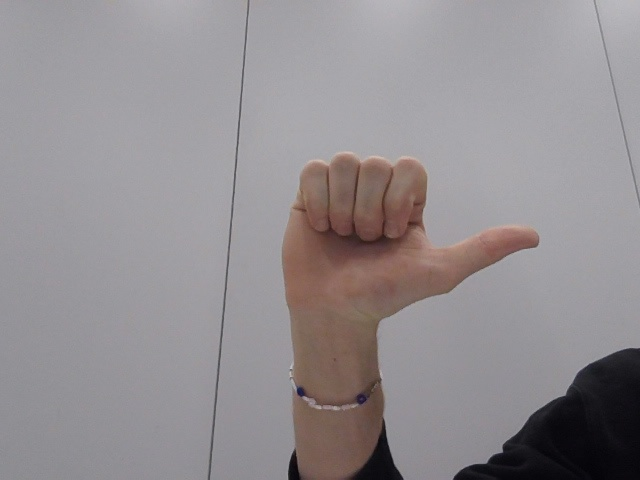left: (267, 145, 552, 352)
